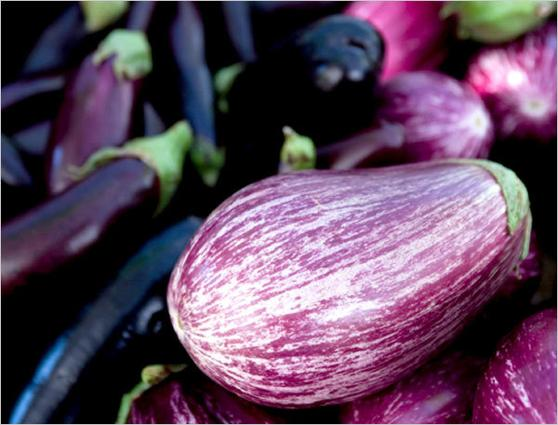eggplant: (174, 160, 532, 411), (3, 126, 192, 303), (215, 18, 383, 134), (54, 31, 153, 193), (374, 70, 496, 167), (11, 2, 126, 85)
